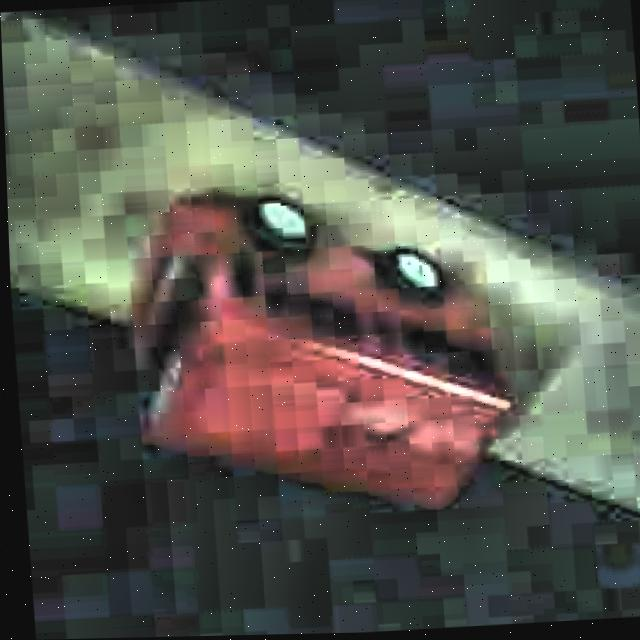bus: (120, 174, 524, 528)
